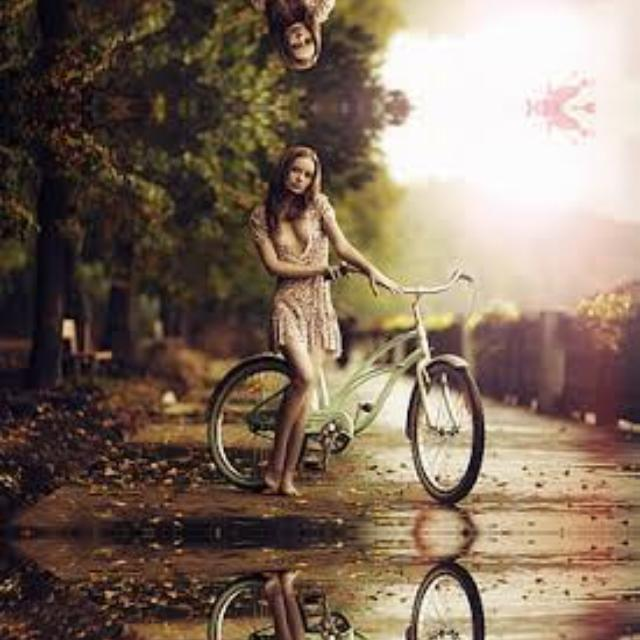person: (252, 132, 358, 528), (251, 537, 358, 640), (251, 0, 358, 82)
